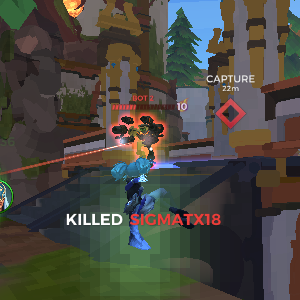model: (112, 112, 165, 170)
